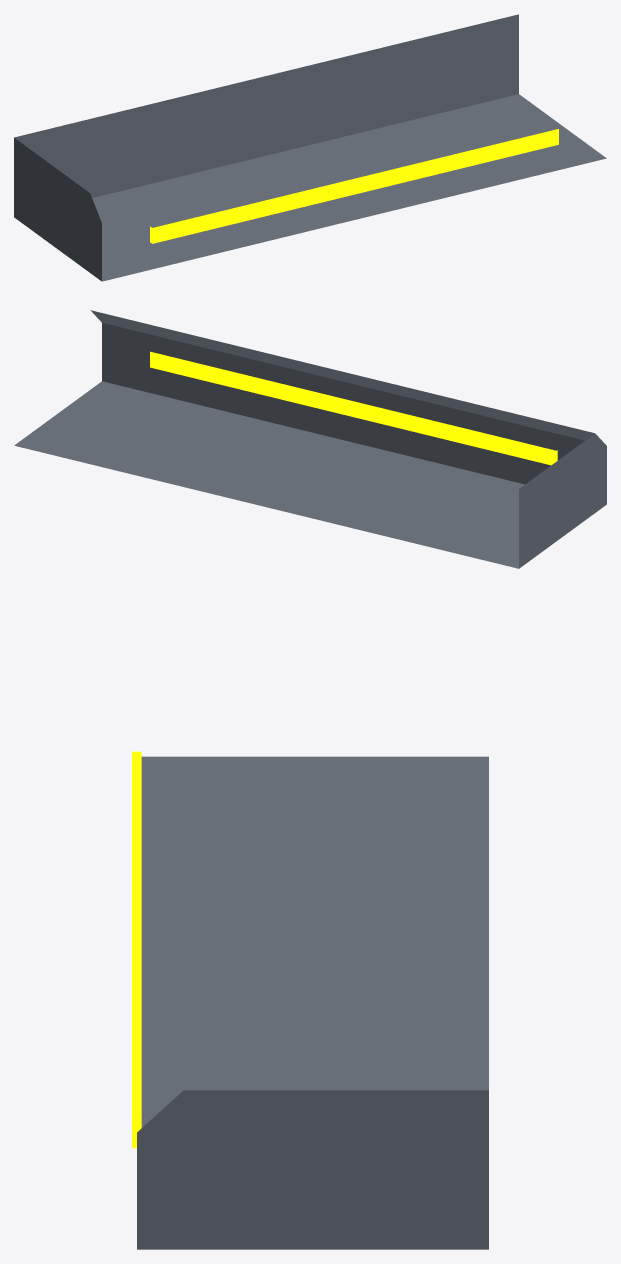
Rendered from ext_curb_segment_1m.glb.
The picture shows the model from 3 angles, top to bottom: view 1: azimuth 30°, elevation 25°; view 2: azimuth 150°, elevation 25°; view 3: azimuth 270°, elevation 25°; orthographic projection. The views are drawn at different scales.
Visible parts, largest first — view 1: Curb, Reflector_Strip; view 2: Curb, Reflector_Strip; view 3: Curb, Reflector_Strip.
Part boxes in pixels (bbox=[...]): Curb: bbox=[14, 14, 606, 281]; Reflector_Strip: bbox=[150, 129, 558, 243]; Curb: bbox=[14, 310, 606, 568]; Reflector_Strip: bbox=[150, 351, 557, 465]; Curb: bbox=[137, 756, 488, 1249]; Reflector_Strip: bbox=[132, 751, 141, 1148].
Size of the model in its own units: 0.994 by 0.15 by 0.304.
